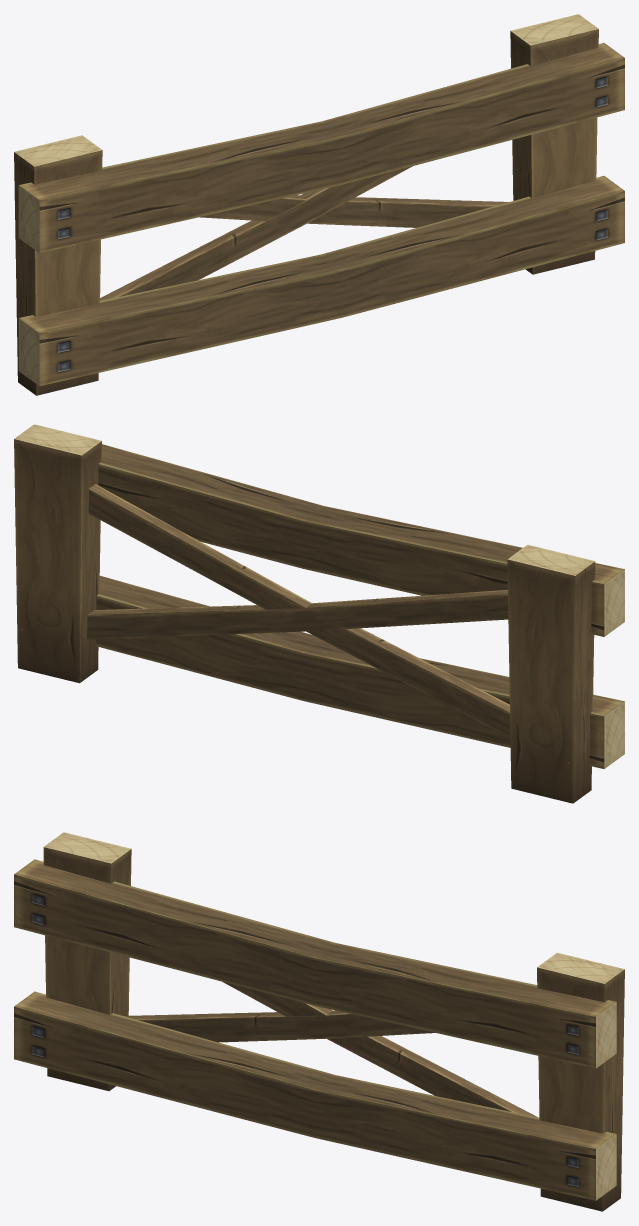
The model's file is wooden_fence_32.fbx.
3 renders of one model, top to bottom at view 1: azimuth 30°, elevation 25°; view 2: azimuth 150°, elevation 25°; view 3: azimuth 330°, elevation 25°, orthographic.
Parts seen in each view (by area): view 1: wooden_fence_32:Mesh; view 2: wooden_fence_32:Mesh; view 3: wooden_fence_32:Mesh.
Boxes of the visible parts, <box> form: wooden_fence_32:Mesh: <box>14,14,624,395</box>; wooden_fence_32:Mesh: <box>14,424,624,803</box>; wooden_fence_32:Mesh: <box>14,832,624,1211</box>.
Bounding box in the file's own units: 7.37 × 2.77 × 0.8229.
